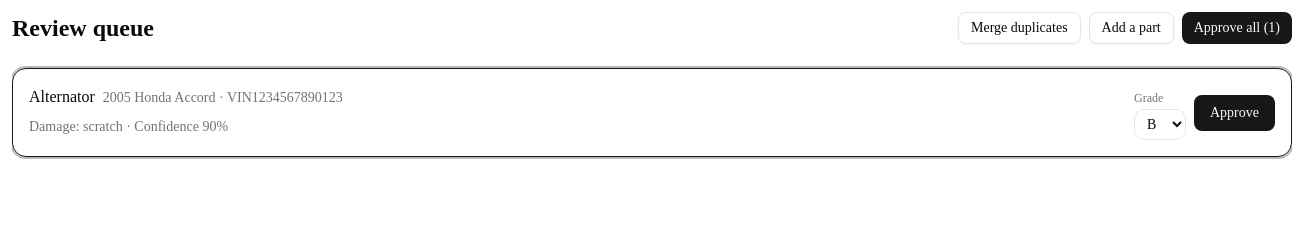
Test: ReviewQueuePage › approving without changing the grade approves without recording a correction
Click the button "Approve".
click(1234, 112)  # box left=1194, top=94, right=1275, bottom=130
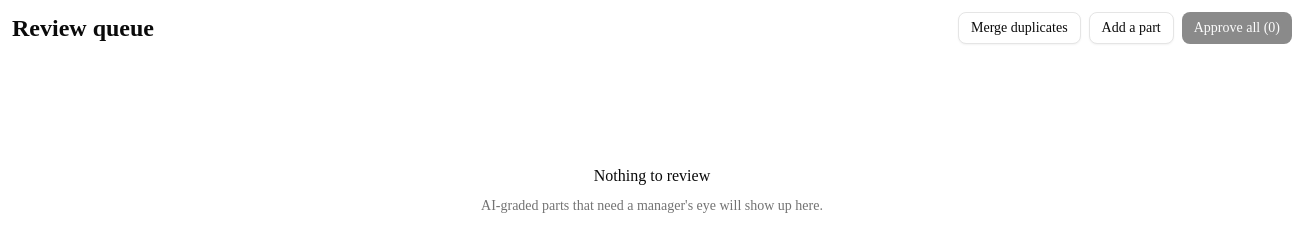
Now the option with test id "review-item-part-1" is gone
